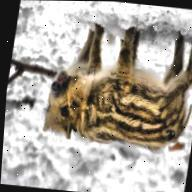boar: (22, 2, 192, 169)
